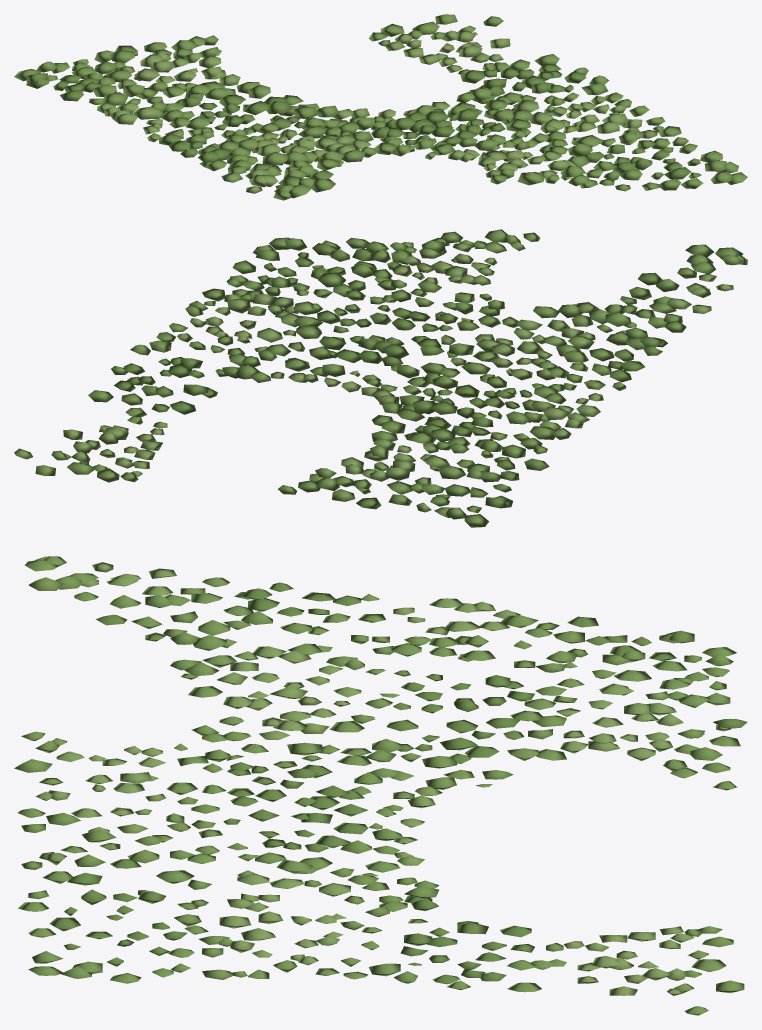
Rendered from canopy-1--1-2.glb.
The picture shows the model from 3 angles, top to bottom: view 1: azimuth 30°, elevation 25°; view 2: azimuth 150°, elevation 25°; view 3: azimuth 270°, elevation 25°; orthographic projection. The views are drawn at different scales.
Size of the model in its own units: 515 by 132 by 518.
Materials: 1 (1 with a texture image).
